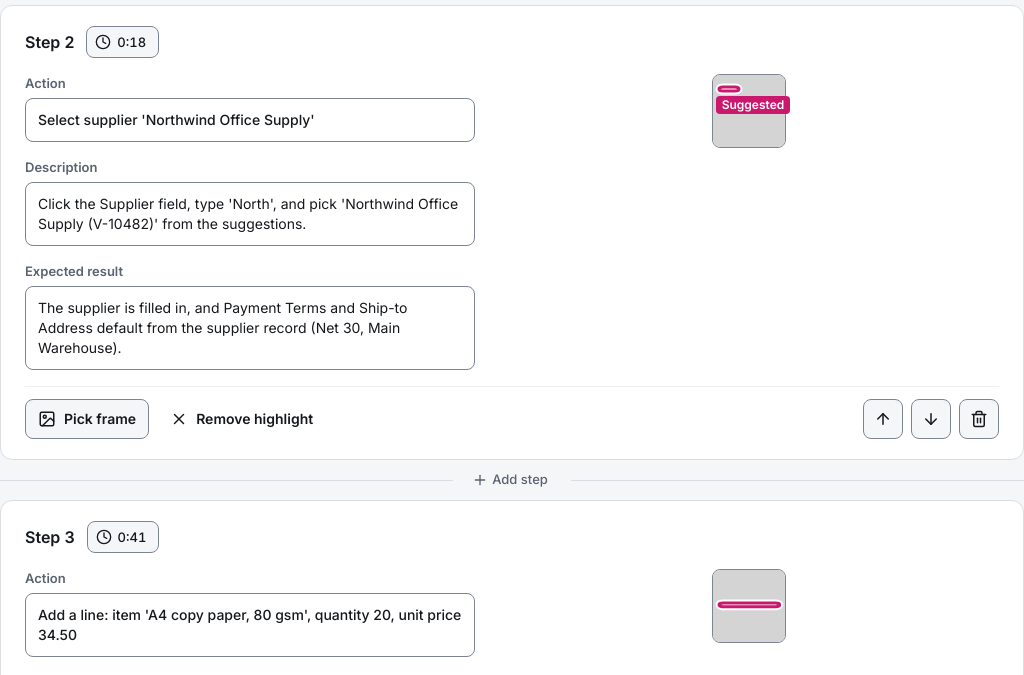
Test: StepList › after a move, focus stays on the moved step's button and the move is announced
Later steps or results of the test are not shown.
(page scrolled)
Click the button named "Move step 2 up".
click(883, 419)  # box [863,399,903,439]
Wait 100 ms
(page scrolled)
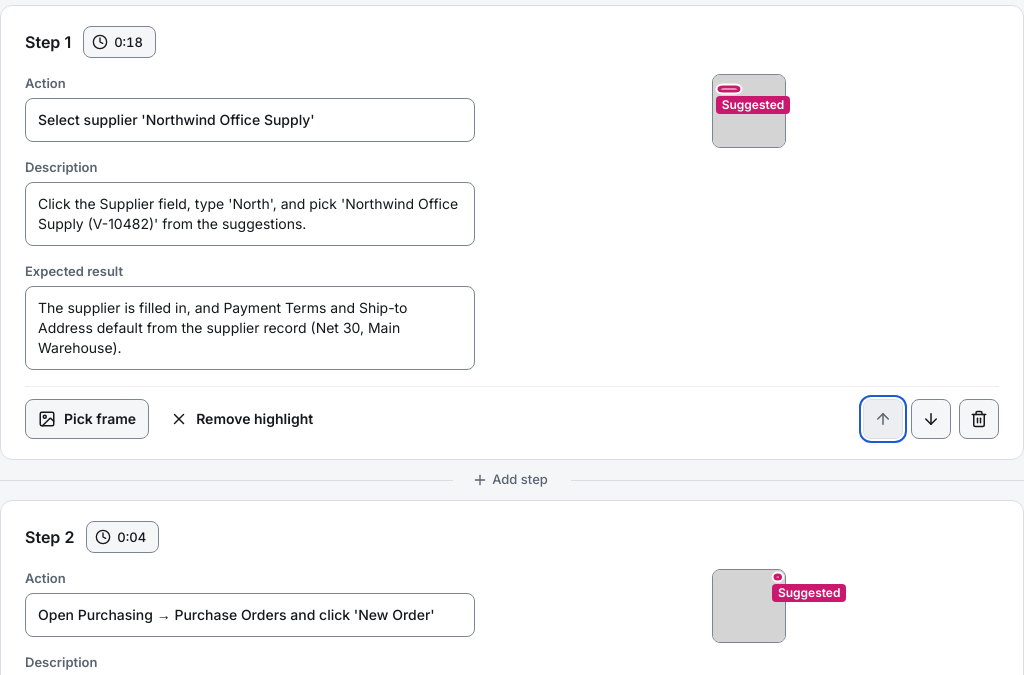
Now the button named "Move step 1 up" is disabled, box [863,399,903,439]
